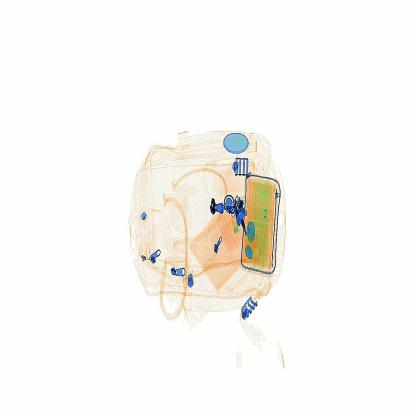wrench: (208, 197, 231, 223)
